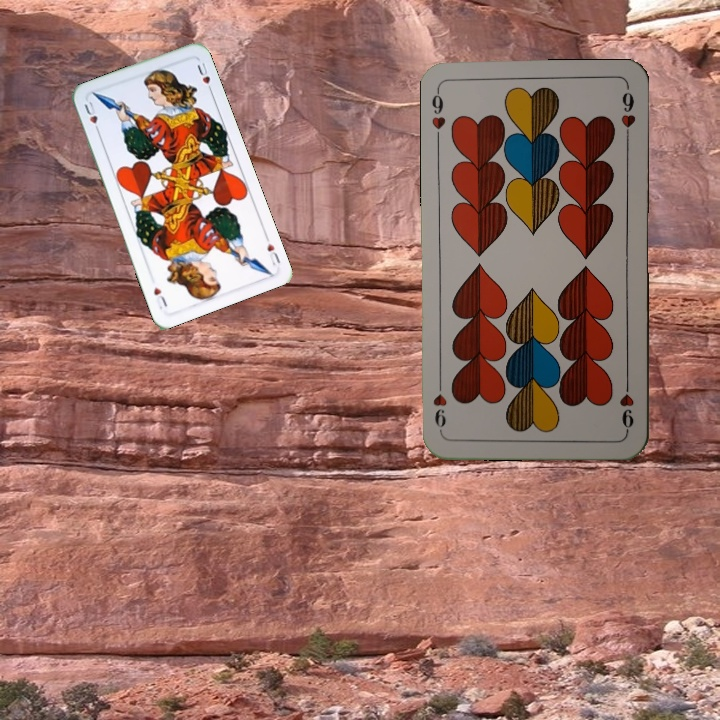H9: (616, 374, 637, 433), (427, 85, 448, 144)
HU: (80, 97, 102, 136), (263, 239, 283, 268)
